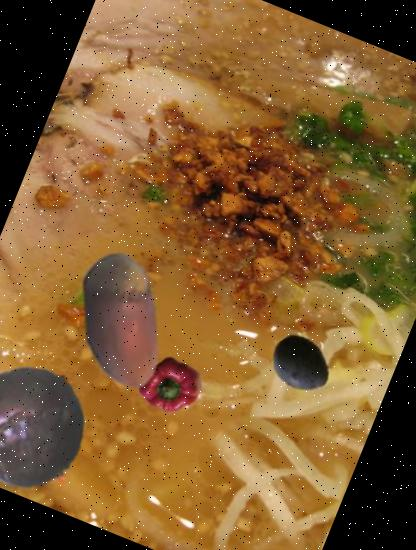Hazelnut: (28, 230, 210, 412)
Passion: (0, 341, 112, 512)
Pepper: (132, 346, 211, 425)
Plum: (260, 325, 340, 406)
